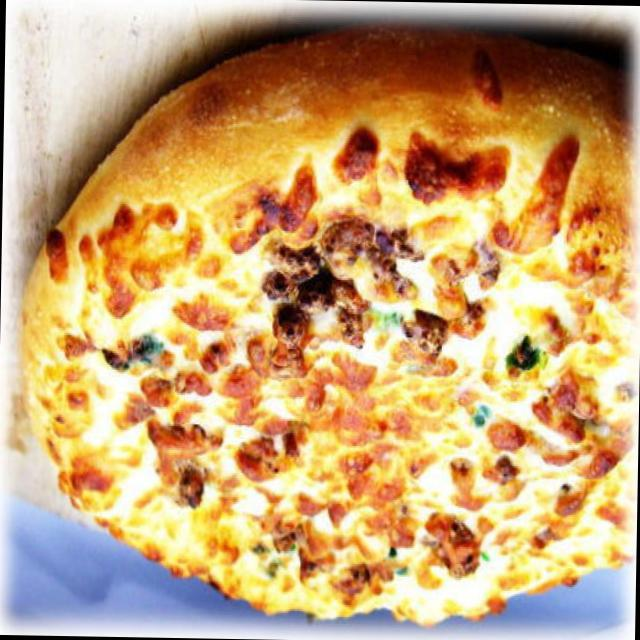Pizza: (11, 32, 634, 630)
